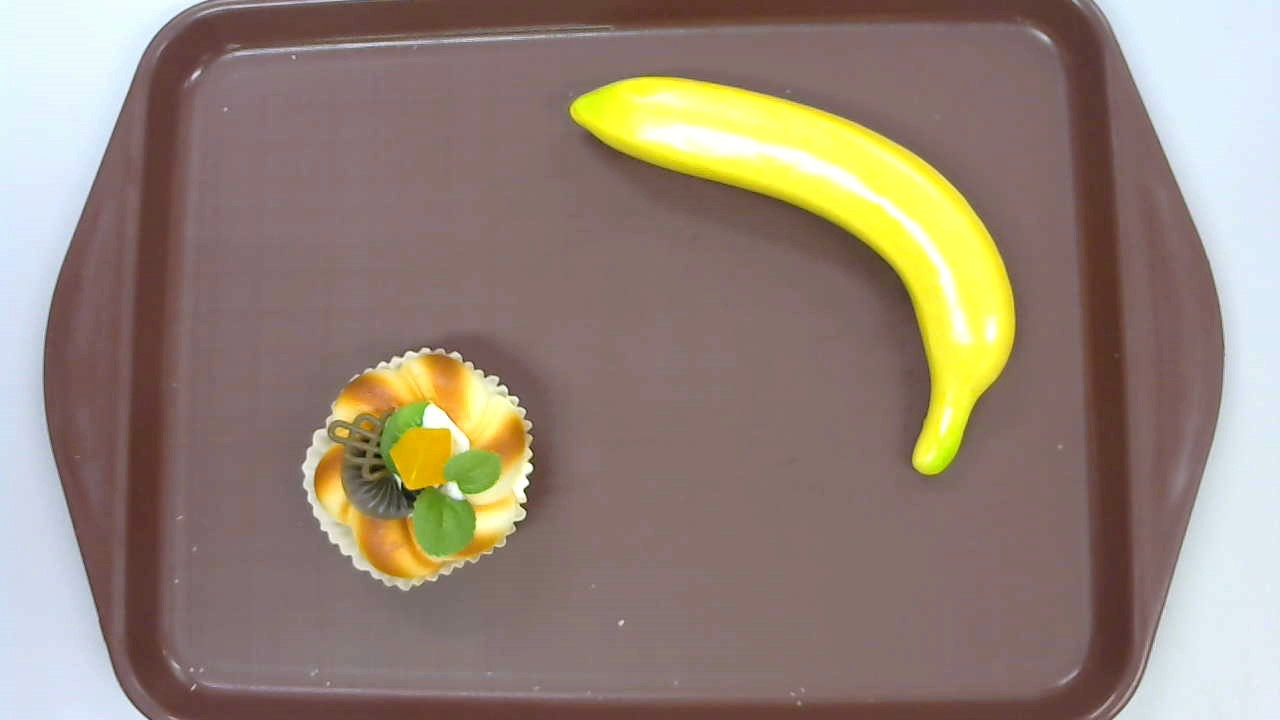banana: (569, 76, 1016, 476)
fruit tart: (302, 347, 534, 591)
